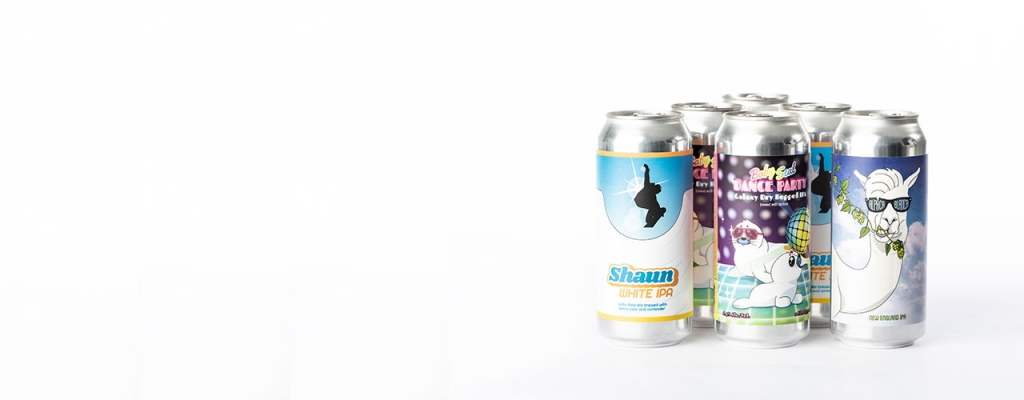beer can: (594, 108, 698, 348), (715, 111, 811, 348), (836, 109, 928, 347), (788, 94, 866, 327), (672, 97, 745, 328)
